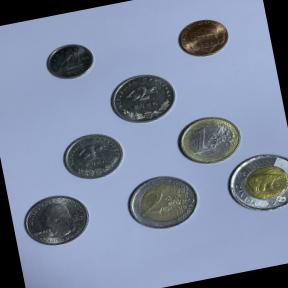1 Euro: (171, 108, 246, 170)
2 Euro: (118, 164, 207, 236)
Canda-10cent-: (42, 37, 100, 86)
Canda-2Dollar-: (219, 148, 288, 219)
Croatia-2Kune-: (103, 66, 182, 130)
US-1cent-: (172, 13, 237, 62)
US-25cent-: (16, 187, 97, 252)
